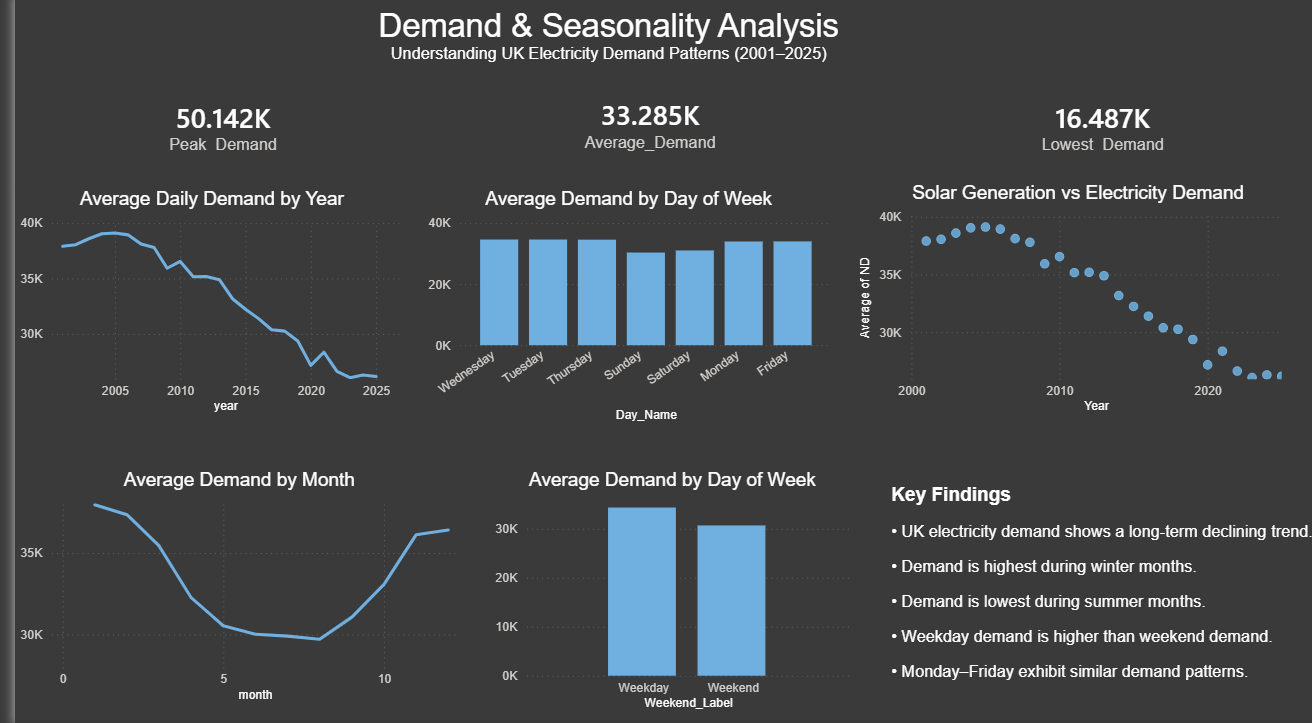

The dashboard page shown, as its layout file describes it:
{"tool":"powerbi","page":{"name":"Demand & Seasonality","canvas":[1280,720],"ordinal":1},"visuals":[{"type":"textbox","box":[185.3,8.6,795.1,71.2],"z":0},{"type":"lineChart","title":"Average Daily Demand by Year","fields":{"Category":["energy_features_v3.year"],"Y":["Avg(energy_features_v3.ND)"]},"box":[0,190.2,386.5,225.8],"z":1000},{"type":"lineChart","title":"Average Demand by Month","fields":{"Category":["energy_features_v3.month"],"Y":["Avg(energy_features_v3.ND)"]},"box":[0,466.3,440.5,233.1],"z":2000},{"type":"columnChart","title":"Average Demand by Day of Week","fields":{"Y":["Avg(energy_features_v3.ND)"],"Category":["energy_features_v3.Day_Name"]},"box":[397.5,190.2,409.8,234.4],"z":3000},{"type":"columnChart","title":"Average Demand by Day of Week","fields":{"Y":["Avg(energy_features_v3.ND)"],"Category":["energy_features_v3.Weekend_Label"]},"box":[466.3,466.3,358.3,241.7],"z":4000},{"type":"textbox","box":[855.2,476.1,424.5,231.9],"z":5000},{"type":"cardVisual","fields":{"Data":["energy_features_v3.Peak_Demand"]},"box":[9.8,84.7,387.7,88.3],"z":6000},{"type":"cardVisual","fields":{"Data":["energy_features_v3.Average_Demand"]},"box":[438,79.8,369.3,93.3],"z":7000},{"type":"cardVisual","fields":{"Data":["energy_features_v3.Lowest_Demand"]},"box":[888.3,84.7,357.1,88.3],"z":8000},{"type":"scatterChart","title":"Solar Generation vs Electricity Demand","fields":{"X":["energy_features_v3.SETTLEMENT_DATE.Variation.Date Hierarchy.Year","energy_features_v3.SETTLEMENT_DATE.Variation.Date Hierarchy.Quarter","energy_features_v3.SETTLEMENT_DATE.Variation.Date Hierarchy.Month","energy_features_v3.SETTLEMENT_DATE.Variation.Date Hierarchy.Day"],"Y":["Avg(energy_features_v3.ND)"]},"box":[824.5,184.1,438,231.9],"z":9000}]}

Visuals, with their boxes in screenshot pixels (x1, y1, x2, y2), scaled from the page's 1280x720 canvas onto the 1312x723 screenshot:
textbox: (190, 9, 1005, 80)
"Average Daily Demand by Year" lineChart: (0, 191, 396, 418)
"Average Demand by Month" lineChart: (0, 468, 452, 702)
"Average Demand by Day of Week" columnChart: (407, 191, 827, 426)
"Average Demand by Day of Week" columnChart: (478, 468, 845, 711)
textbox: (877, 478, 1311, 711)
cardVisual - energy_features_v3.Peak_Demand: (10, 85, 407, 174)
cardVisual - energy_features_v3.Average_Demand: (449, 80, 827, 174)
cardVisual - energy_features_v3.Lowest_Demand: (911, 85, 1277, 174)
"Solar Generation vs Electricity Demand" scatterChart: (845, 185, 1294, 418)
